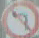Don't turn left: (1, 0, 38, 35)
